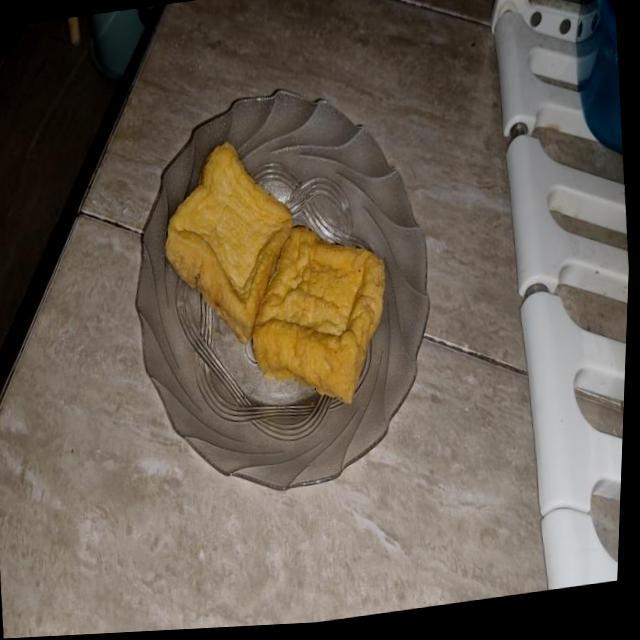tahu_goreng: (165, 142, 292, 344), (252, 226, 385, 402)
